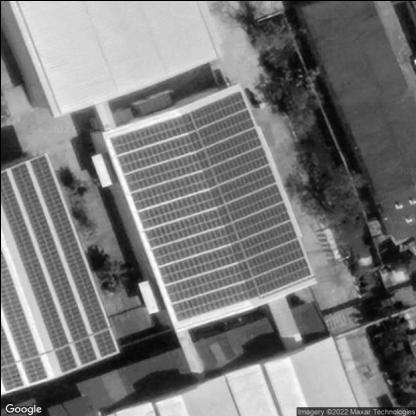solar-pv-panel: (109, 89, 310, 321), (29, 155, 116, 356), (11, 162, 96, 363), (1, 170, 77, 370), (0, 249, 45, 382), (0, 323, 22, 391)
